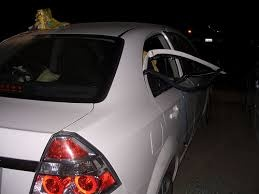Broken-glass: (142, 34, 190, 92)
Scratch: (182, 95, 192, 147), (146, 131, 167, 155)
